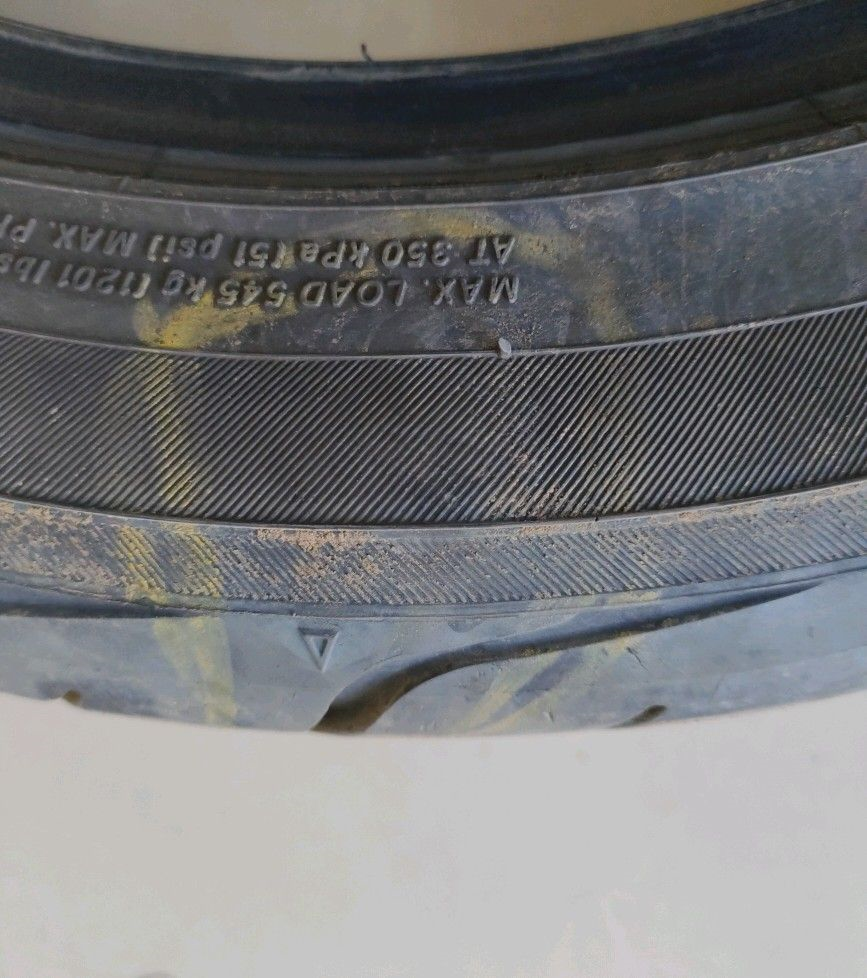CBU: (227, 297, 579, 657)
